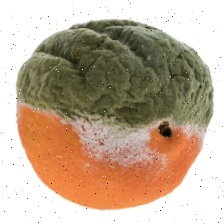orange: (3, 24, 188, 189)
